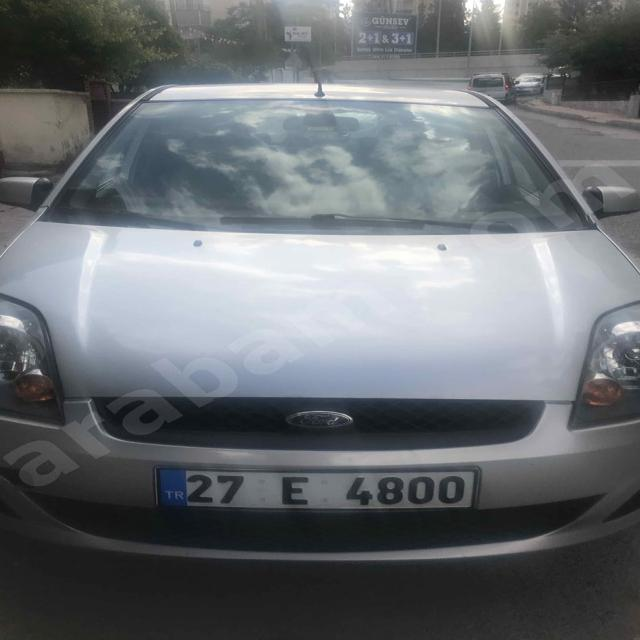license_plate: (155, 466, 478, 510)
